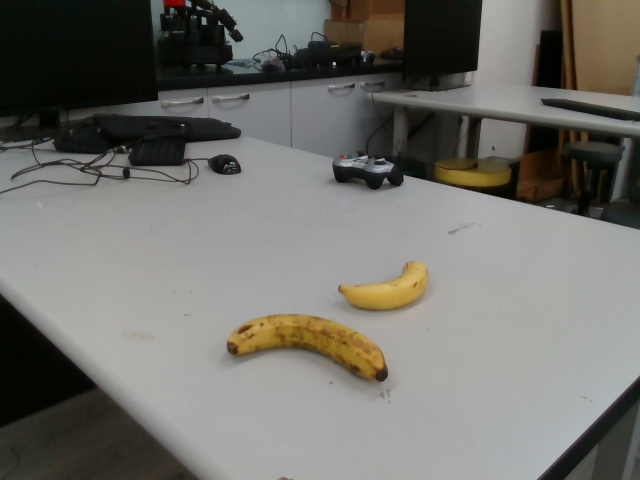banana: (226, 313, 389, 386), (339, 256, 430, 311)
